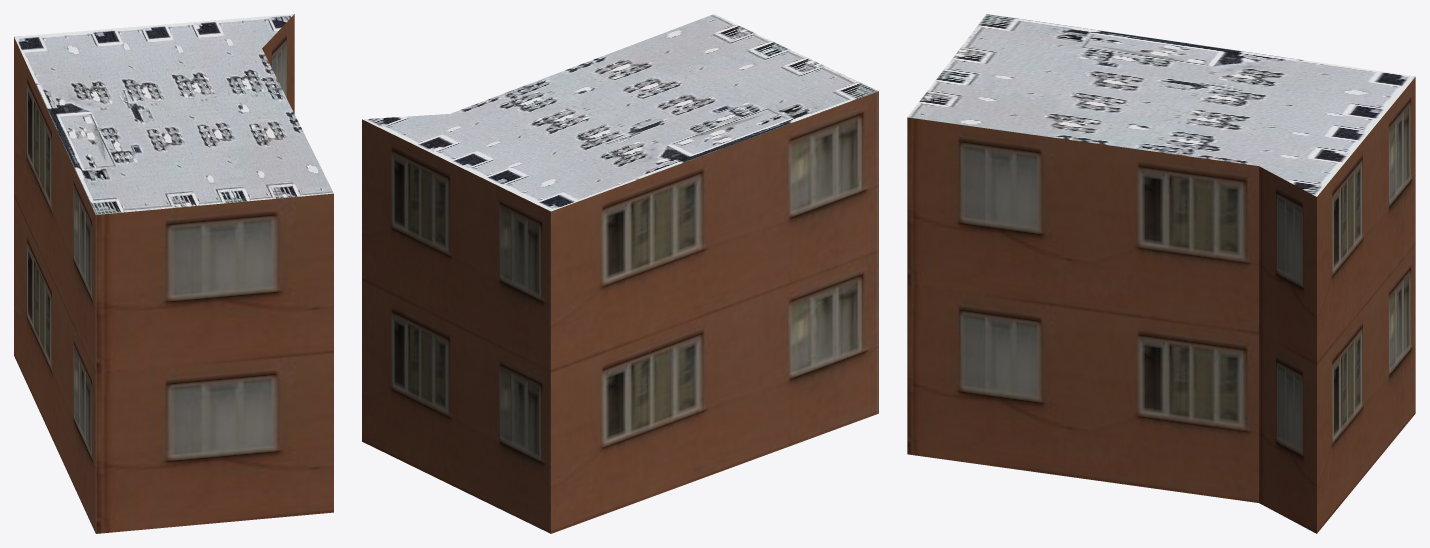
Rendered from ResTex__2582.fbx.
The picture shows the model from 3 angles, left to right: view 1: azimuth 30°, elevation 25°; view 2: azimuth 150°, elevation 25°; view 3: azimuth 270°, elevation 25°; orthographic projection. The views are drawn at different scales.
Parts seen in each view (by area): view 1: CityEngineMaterial_20_m, CityEngineMaterial_2_m; view 2: CityEngineMaterial_20_m, CityEngineMaterial_2_m; view 3: CityEngineMaterial_20_m, CityEngineMaterial_2_m.
Boxes of the visible parts, bbox=[...] form: CityEngineMaterial_20_m: bbox=[14, 14, 333, 533]; CityEngineMaterial_2_m: bbox=[14, 14, 333, 214]; CityEngineMaterial_20_m: bbox=[362, 91, 878, 533]; CityEngineMaterial_2_m: bbox=[362, 14, 878, 211]; CityEngineMaterial_20_m: bbox=[907, 77, 1415, 533]; CityEngineMaterial_2_m: bbox=[907, 14, 1415, 196].
Bounding box in the file's own units: 6.99 × 6 × 8.21.
2 materials, 2 textured.
